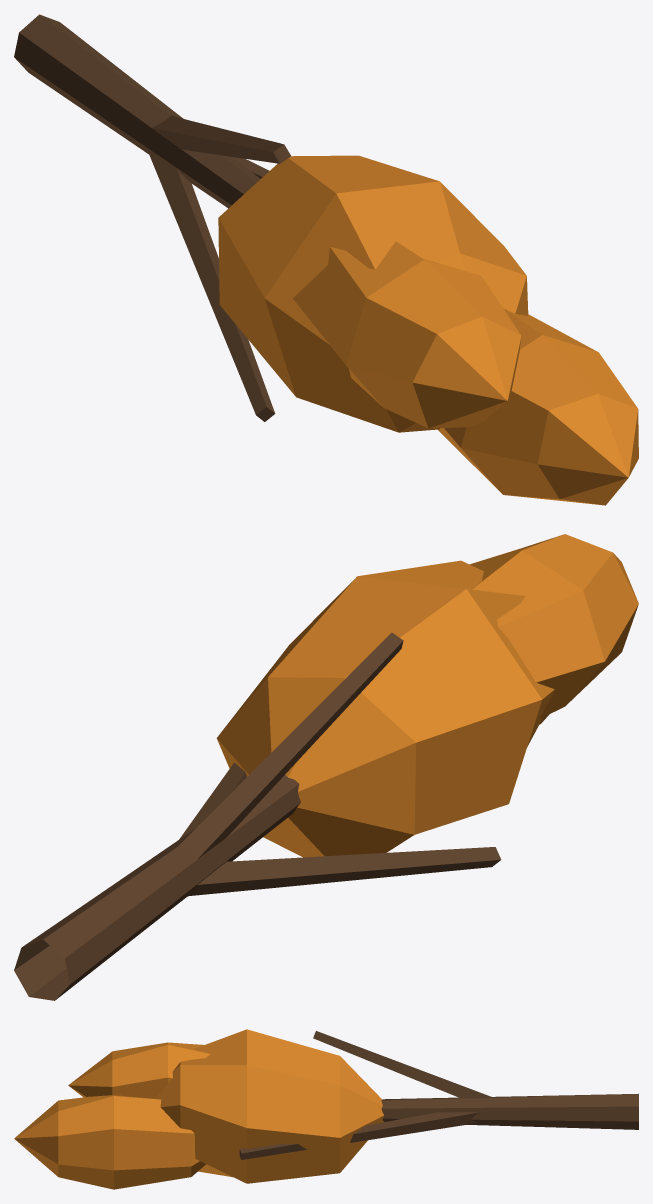
File: dying_1.glb
3 views of the same model, one above another, from view 1: azimuth 30°, elevation 25°; view 2: azimuth 150°, elevation 25°; view 3: azimuth 270°, elevation 25° (orthographic). The views are drawn at different scales.
Visible parts, largest first — view 1: tree_11_dying_1; view 2: tree_11_dying_1; view 3: tree_11_dying_1.
Part boxes in pixels (<box>): tree_11_dying_1: <box>14,14,638,505</box>; tree_11_dying_1: <box>14,534,638,1000</box>; tree_11_dying_1: <box>14,1029,638,1189</box>.
Size of the model in its own units: 9.88 by 9.44 by 38.96.
